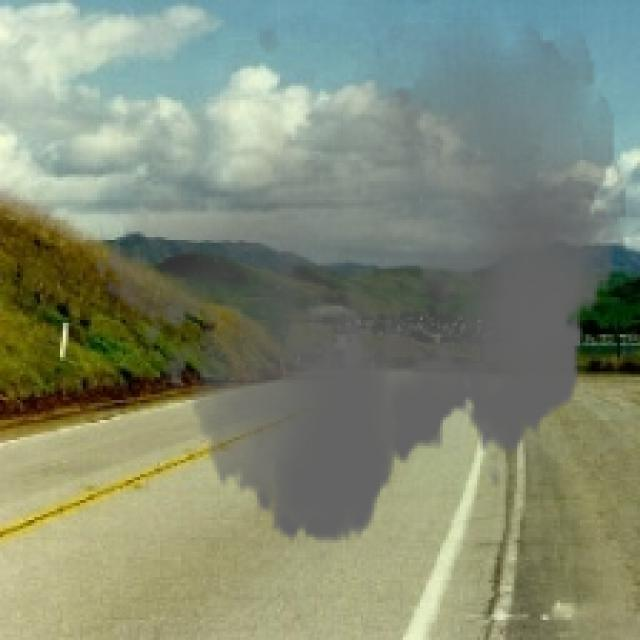Smoke: (91, 0, 626, 563)
